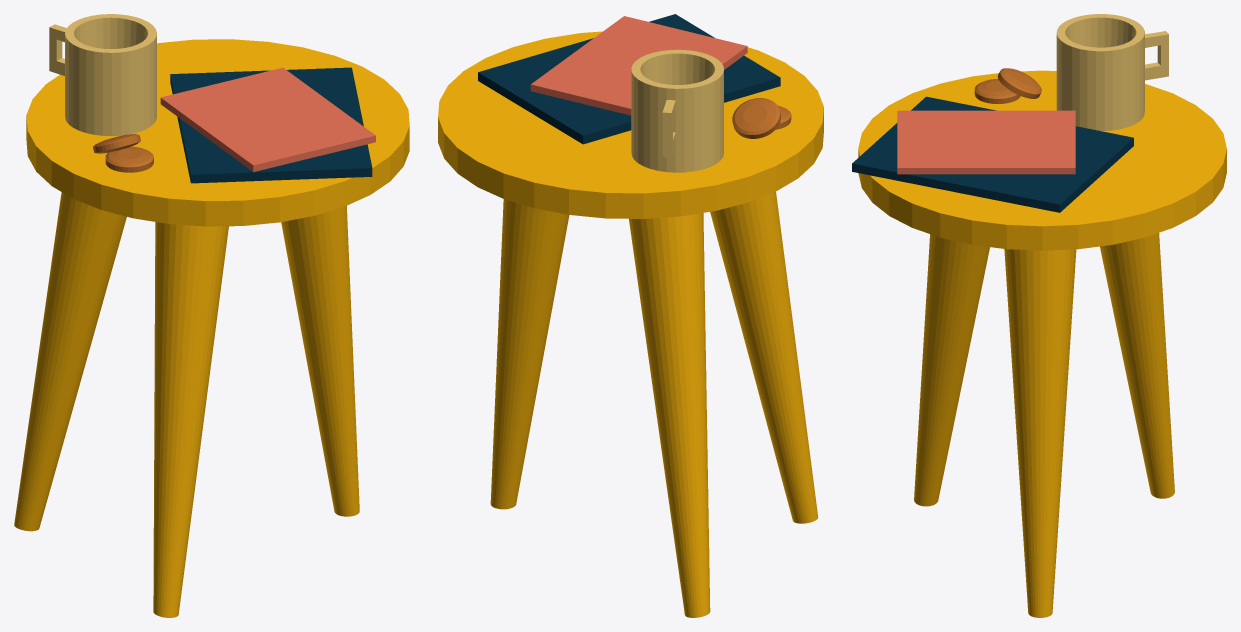
Rendered from MESA-CAFE-SOFA.glb.
3 views of the same model, side by side, from view 1: azimuth 30°, elevation 25°; view 2: azimuth 150°, elevation 25°; view 3: azimuth 270°, elevation 25° (orthographic). The views are drawn at different scales.
Parts seen in each view (by area): view 1: MESA-CAFE-SOFA; view 2: MESA-CAFE-SOFA; view 3: MESA-CAFE-SOFA.
Boxes of the visible parts, box(x1,y1,x2,y2) form: MESA-CAFE-SOFA: box(14, 14, 409, 617); MESA-CAFE-SOFA: box(438, 14, 823, 617); MESA-CAFE-SOFA: box(852, 14, 1226, 617).
Size of the model in its own units: 1.1 by 1.6 by 1.12.
1 material, 1 textured.
